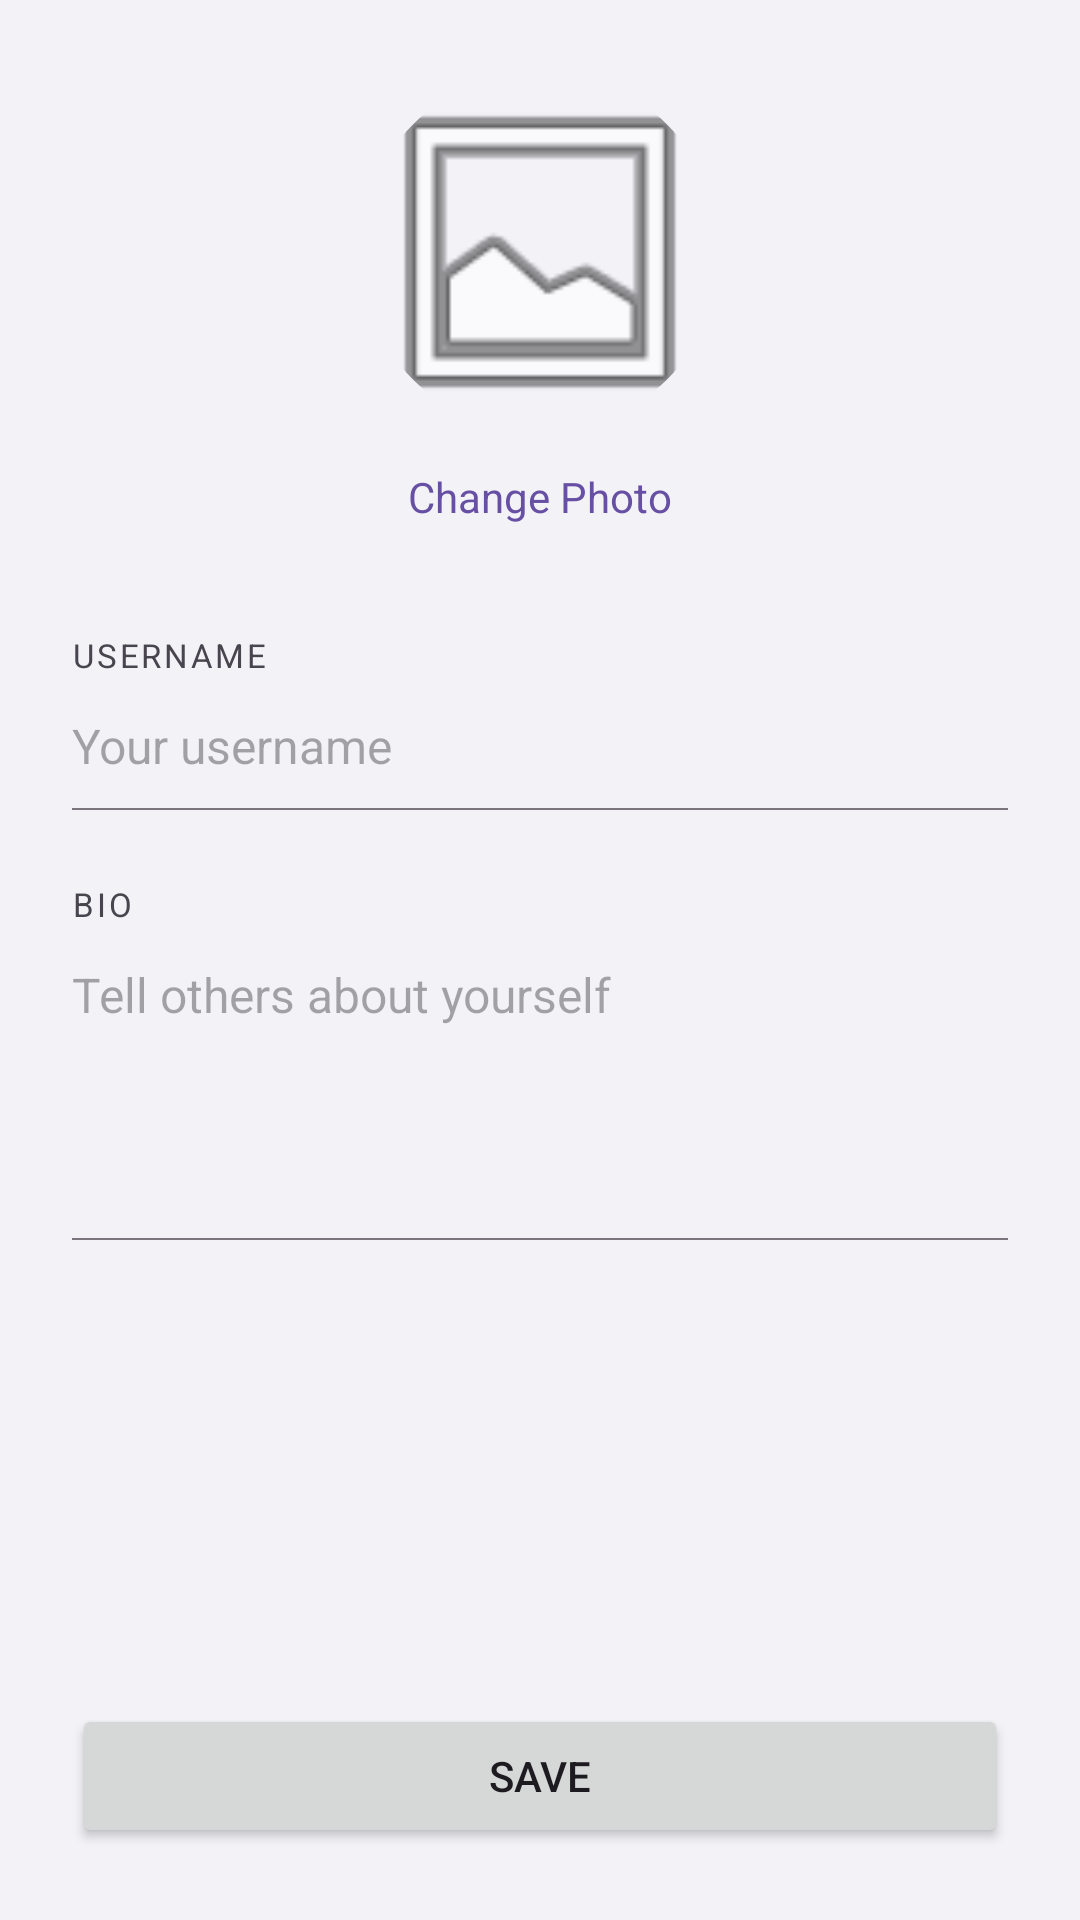

Locate icon controls on the screen. Image size 1080 x 1920, boxes as (x1,y1,x2,y2).
Profile picture: (404,116,676,388)
